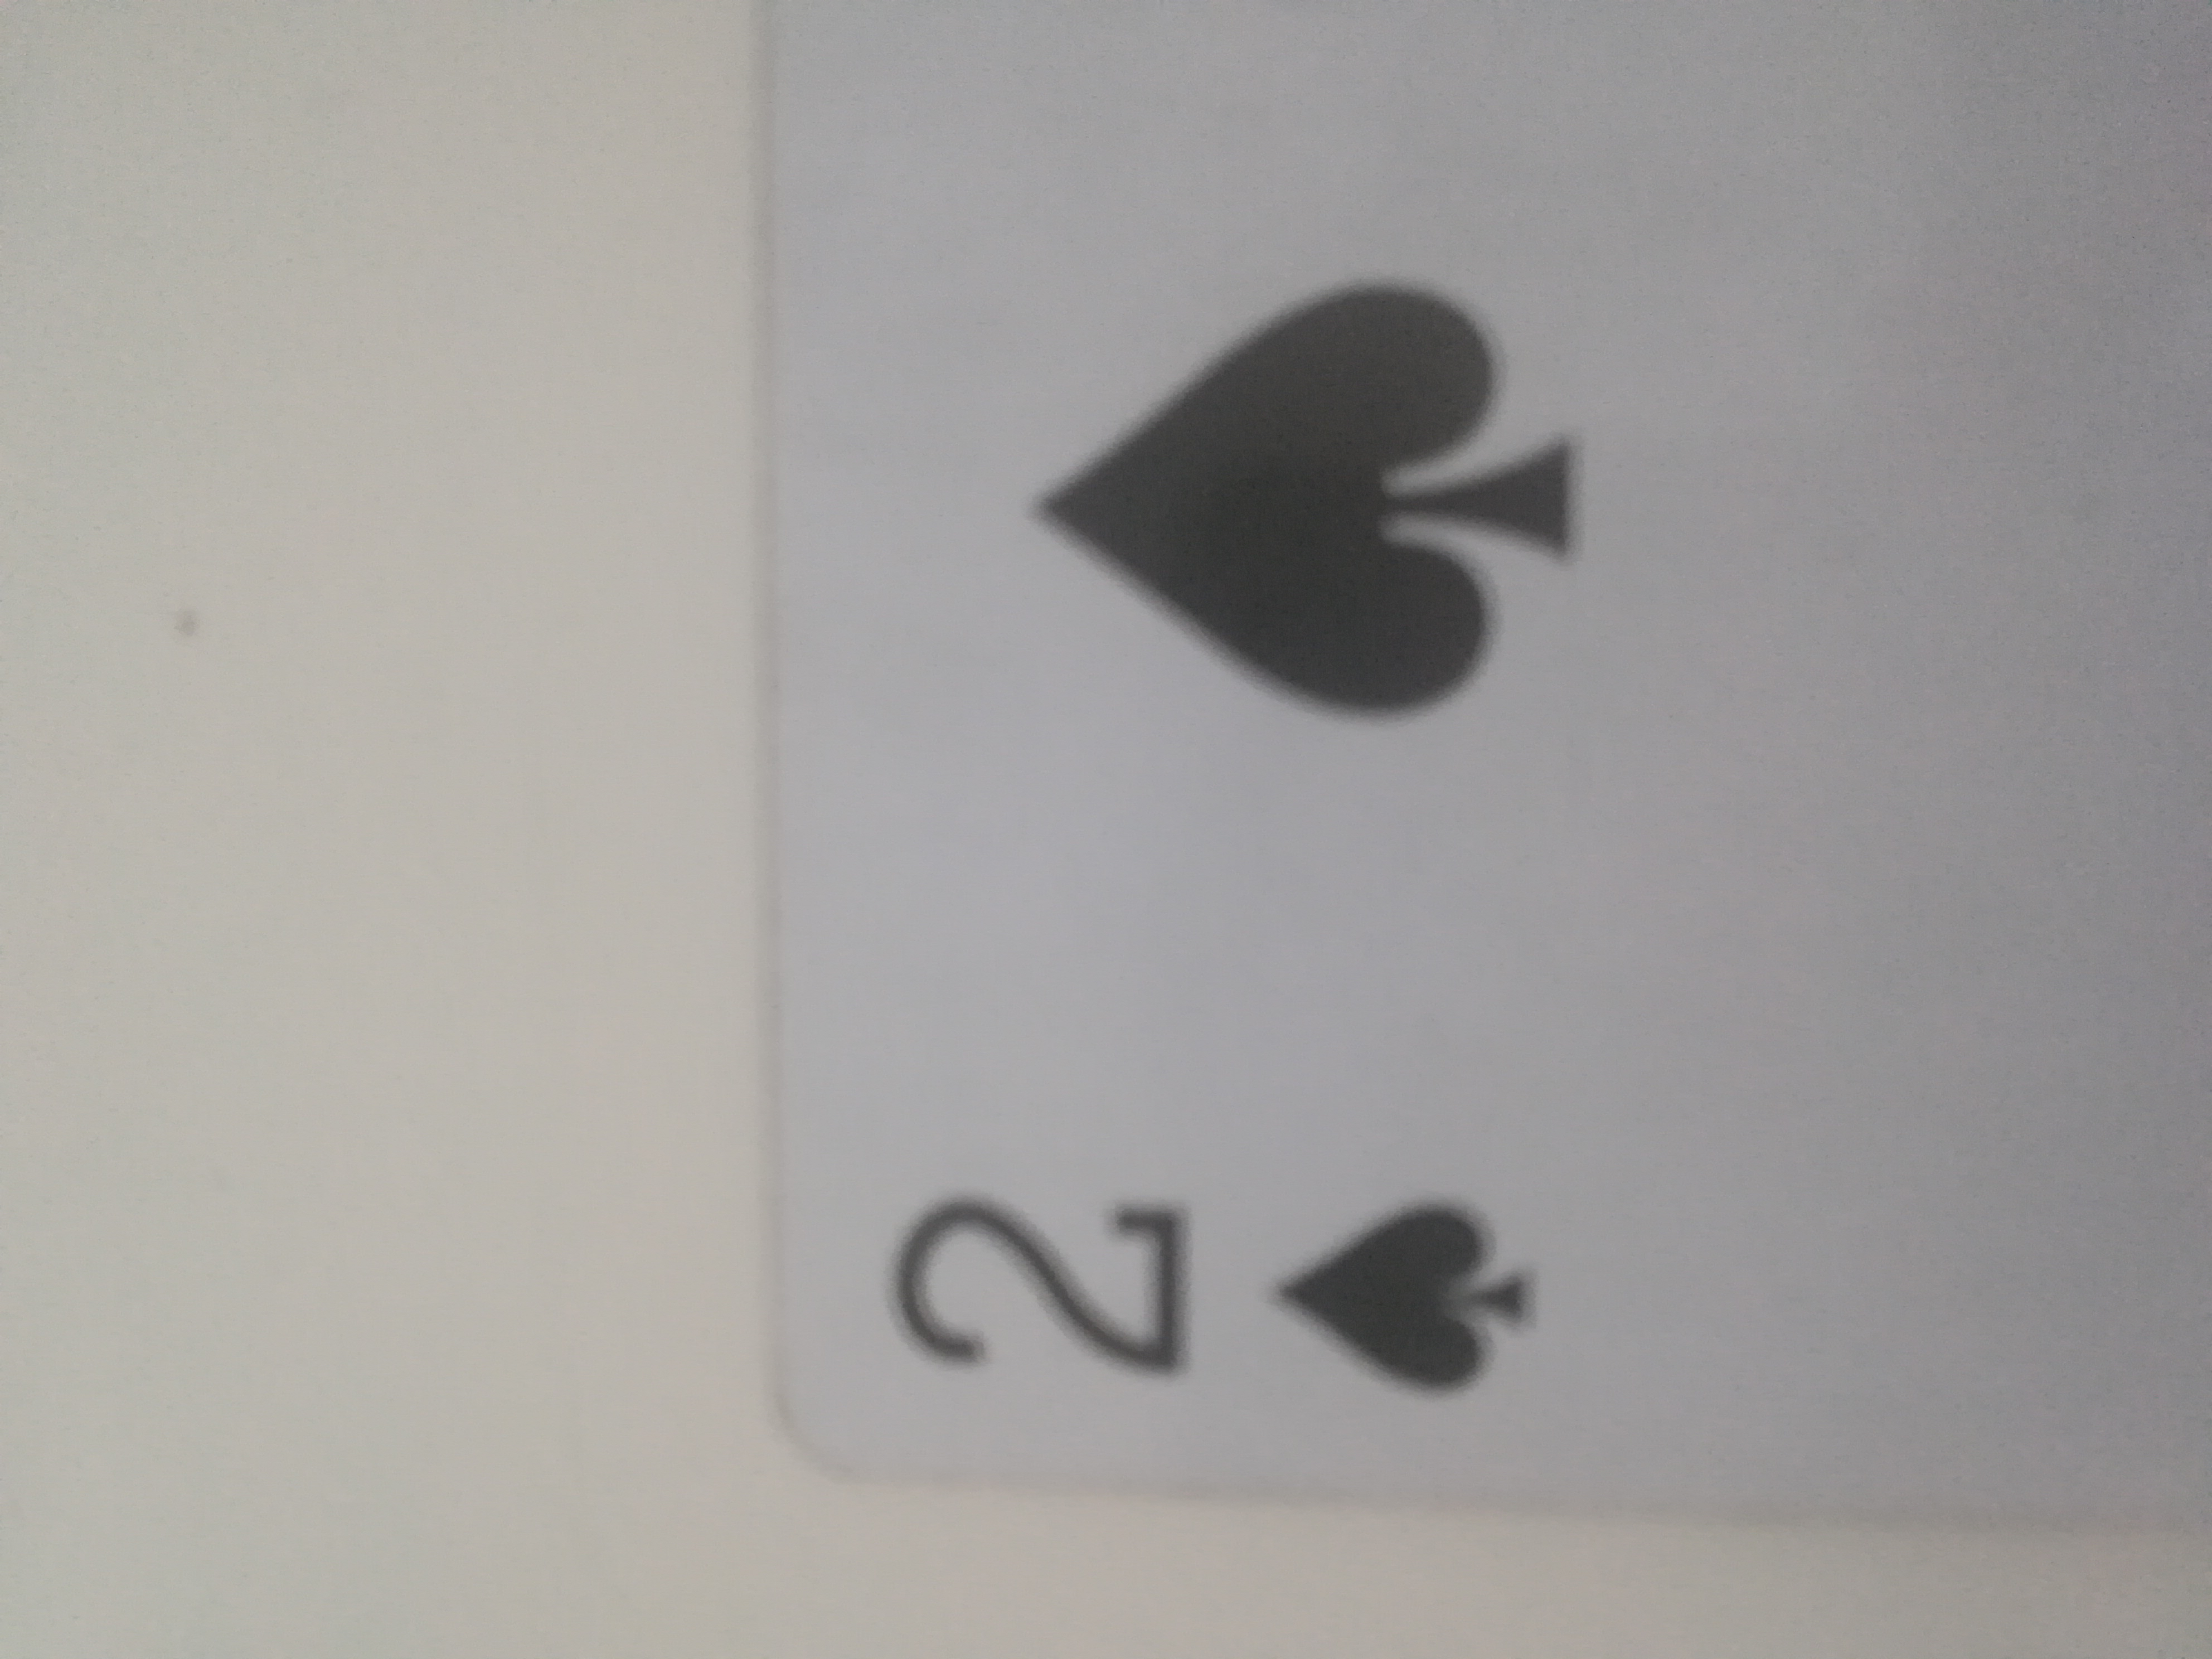2S: (765, 0, 2210, 1558)
